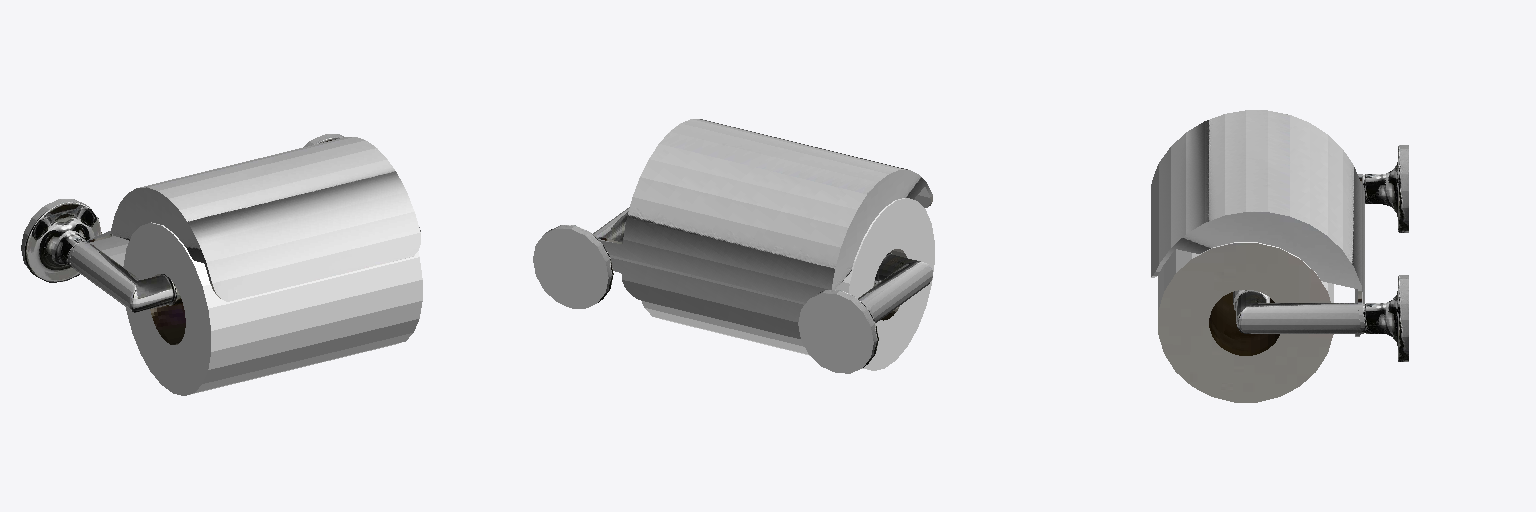
3 renders of one model, left to right at view 1: azimuth 30°, elevation 25°; view 2: azimuth 150°, elevation 25°; view 3: azimuth 270°, elevation 25°, orthographic.
Visible parts, largest first — view 1: Mesh1 Group1 Brizo_Odin_Polished_Chrome_Tissue_Holder1 Model, Mesh2 Group2 Brizo_Odin_Polished_Chrome_Tissue_Holder1 Model, Mesh7 Group_107_2 Brizo_Odin_Polished_Chrome_Tissue_Holder1 Mode, Mesh6 Group_107_2 Brizo_Odin_Polished_Chrome_Tissue_Holder1 Mode; view 2: Mesh1 Group1 Brizo_Odin_Polished_Chrome_Tissue_Holder1 Model, Mesh2 Group2 Brizo_Odin_Polished_Chrome_Tissue_Holder1 Model, Mesh5 Group_107_1 Brizo_Odin_Polished_Chrome_Tissue_Holder1 Mode, Mesh7 Group_107_2 Brizo_Odin_Polished_Chrome_Tissue_Holder1 Mode, Mesh6 Group_107_2 Brizo_Odin_Polished_Chrome_Tissue_Holder1 Mode, Mesh4 Group_107_1 Brizo_Odin_Polished_Chrome_Tissue_Holder1 Mode; view 3: Mesh1 Group1 Brizo_Odin_Polished_Chrome_Tissue_Holder1 Model, Mesh2 Group2 Brizo_Odin_Polished_Chrome_Tissue_Holder1 Model, Mesh4 Group_107_1 Brizo_Odin_Polished_Chrome_Tissue_Holder1 Mode, Mesh5 Group_107_1 Brizo_Odin_Polished_Chrome_Tissue_Holder1 Mode, Mesh7 Group_107_2 Brizo_Odin_Polished_Chrome_Tissue_Holder1 Mode.
Boxes of the visible parts, x1=… form: Mesh1 Group1 Brizo_Odin_Polished_Chrome_Tissue_Holder1 Model: x1=68, y1=137, x2=420, y2=301; Mesh2 Group2 Brizo_Odin_Polished_Chrome_Tissue_Holder1 Model: x1=123, y1=222, x2=422, y2=395; Mesh7 Group_107_2 Brizo_Odin_Polished_Chrome_Tissue_Holder1 Mode: x1=21, y1=199, x2=101, y2=282; Mesh6 Group_107_2 Brizo_Odin_Polished_Chrome_Tissue_Holder1 Mode: x1=70, y1=244, x2=173, y2=312; Mesh1 Group1 Brizo_Odin_Polished_Chrome_Tissue_Holder1 Model: x1=595, y1=119, x2=932, y2=338; Mesh2 Group2 Brizo_Odin_Polished_Chrome_Tissue_Holder1 Model: x1=642, y1=198, x2=934, y2=370; Mesh5 Group_107_1 Brizo_Odin_Polished_Chrome_Tissue_Holder1 Mode: x1=533, y1=225, x2=613, y2=308; Mesh7 Group_107_2 Brizo_Odin_Polished_Chrome_Tissue_Holder1 Mode: x1=798, y1=290, x2=878, y2=373; Mesh6 Group_107_2 Brizo_Odin_Polished_Chrome_Tissue_Holder1 Mode: x1=858, y1=254, x2=932, y2=322; Mesh4 Group_107_1 Brizo_Odin_Polished_Chrome_Tissue_Holder1 Mode: x1=593, y1=207, x2=629, y2=242; Mesh1 Group1 Brizo_Odin_Polished_Chrome_Tissue_Holder1 Model: x1=1151, y1=110, x2=1364, y2=336; Mesh2 Group2 Brizo_Odin_Polished_Chrome_Tissue_Holder1 Model: x1=1158, y1=242, x2=1333, y2=402; Mesh4 Group_107_1 Brizo_Odin_Polished_Chrome_Tissue_Holder1 Mode: x1=1236, y1=291, x2=1360, y2=333; Mesh5 Group_107_1 Brizo_Odin_Polished_Chrome_Tissue_Holder1 Mode: x1=1363, y1=275, x2=1408, y2=361; Mesh7 Group_107_2 Brizo_Odin_Polished_Chrome_Tissue_Holder1 Mode: x1=1363, y1=145, x2=1408, y2=232.
Bounding box in the file's own units: 0.3818 × 0.2031 × 0.2506.
3 materials, 1 textured.